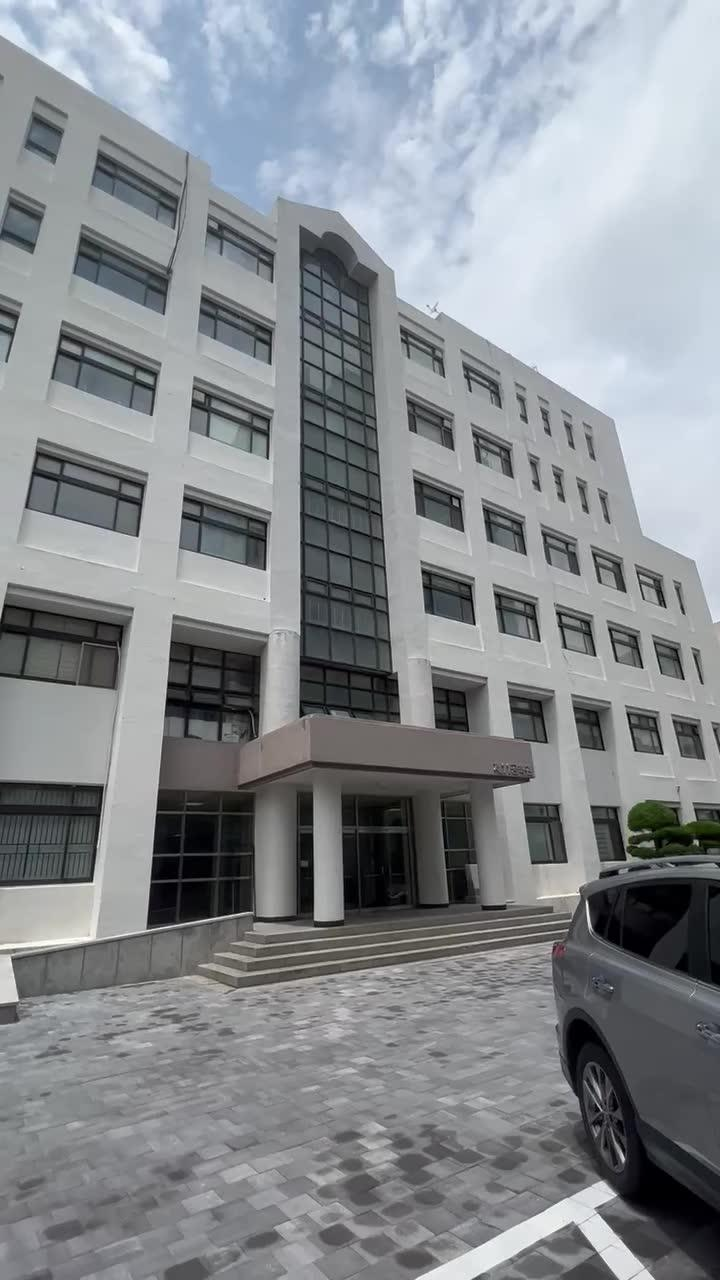building: (36, 88, 582, 900)
